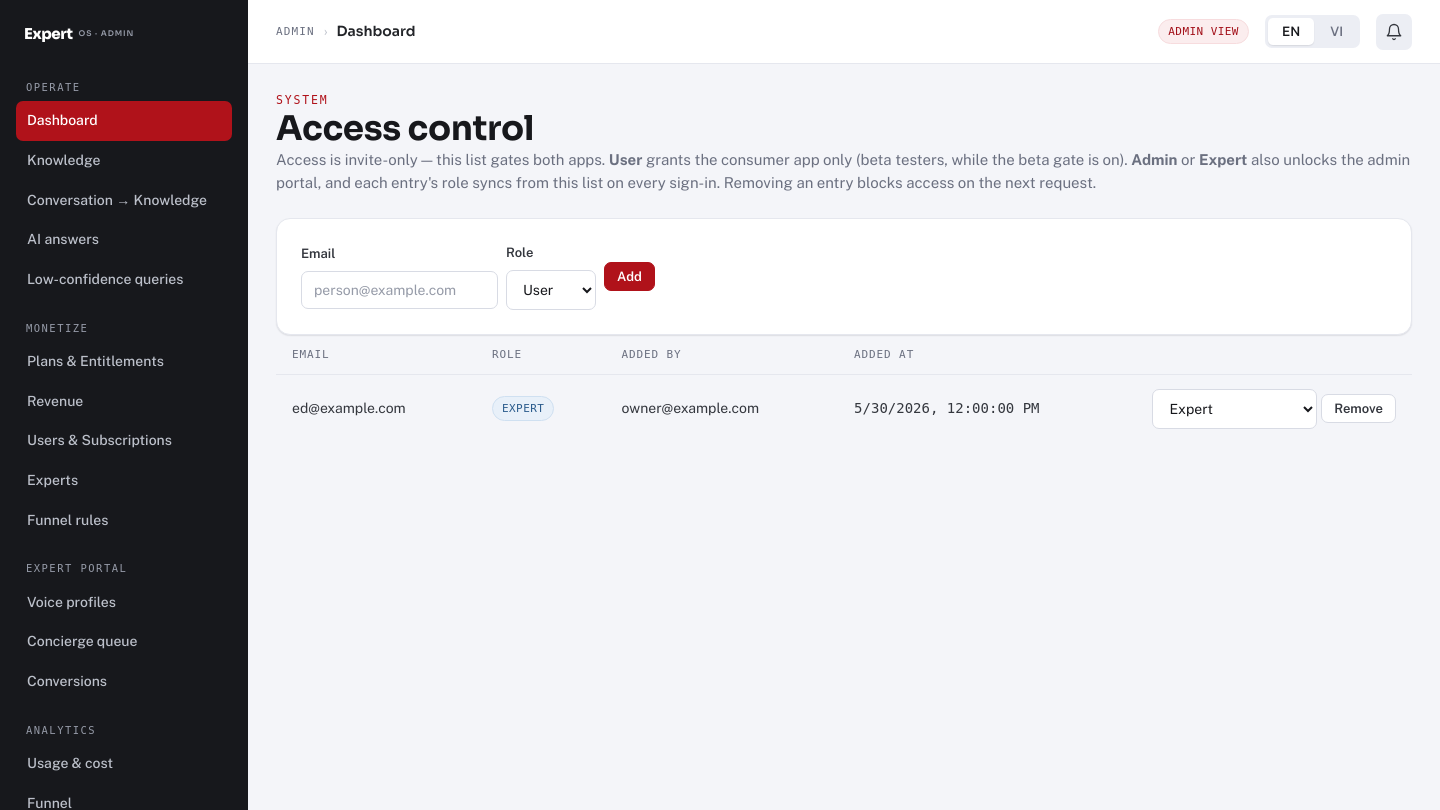
Test: AccessControlPage — role change + remove › removes an entry via DELETE when the removal is confirmed
This screenshot has width=1440, height=810.
Expected: the text "ed@example.com" is shown, [276,374,476,443]
What coordinates should you click on to do the following:
click the button "Remove"
I would click on:
 (1359, 409)
Its box is [1321,394,1396,423].
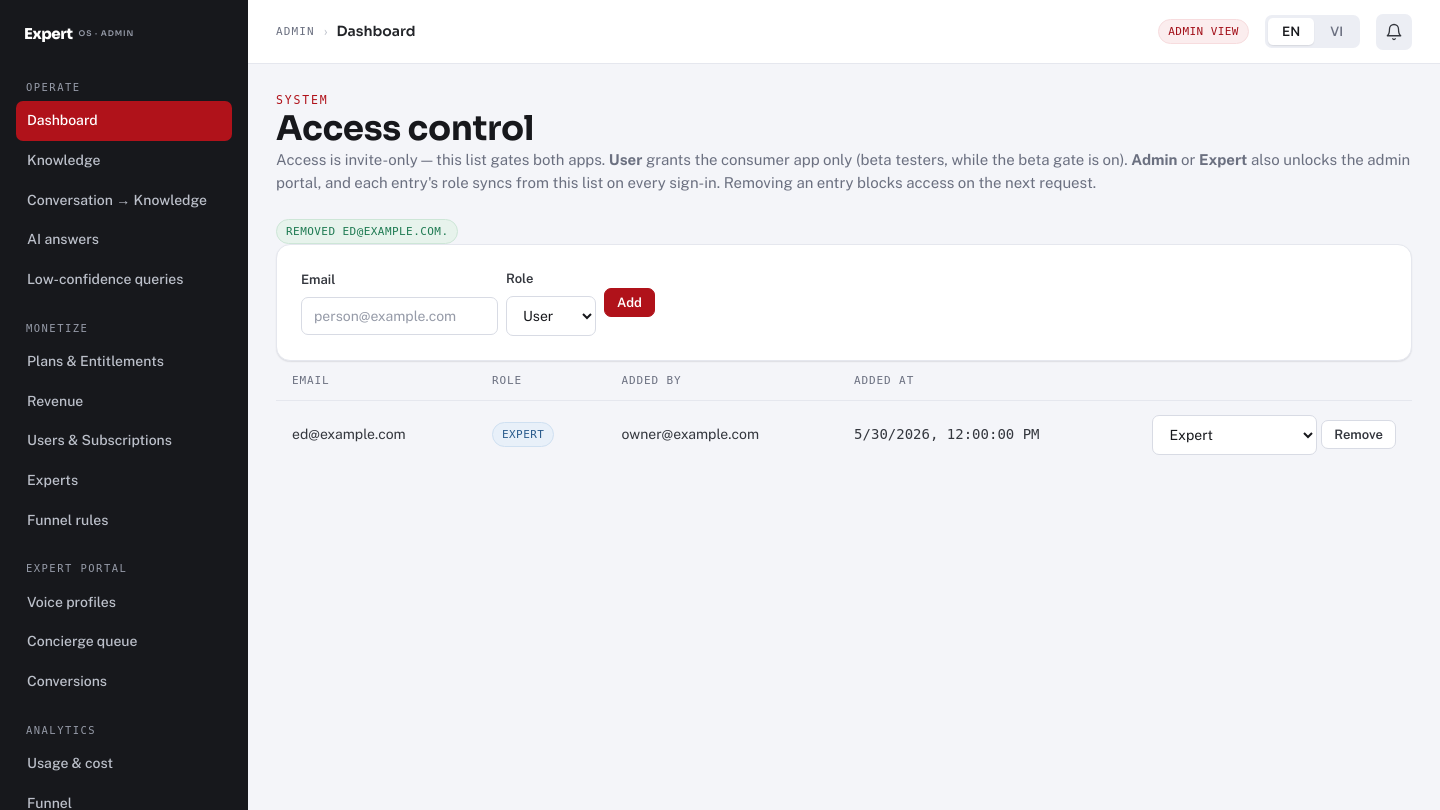
Result: the text "Removed ed@example.com." is shown at [276,219,458,244]
